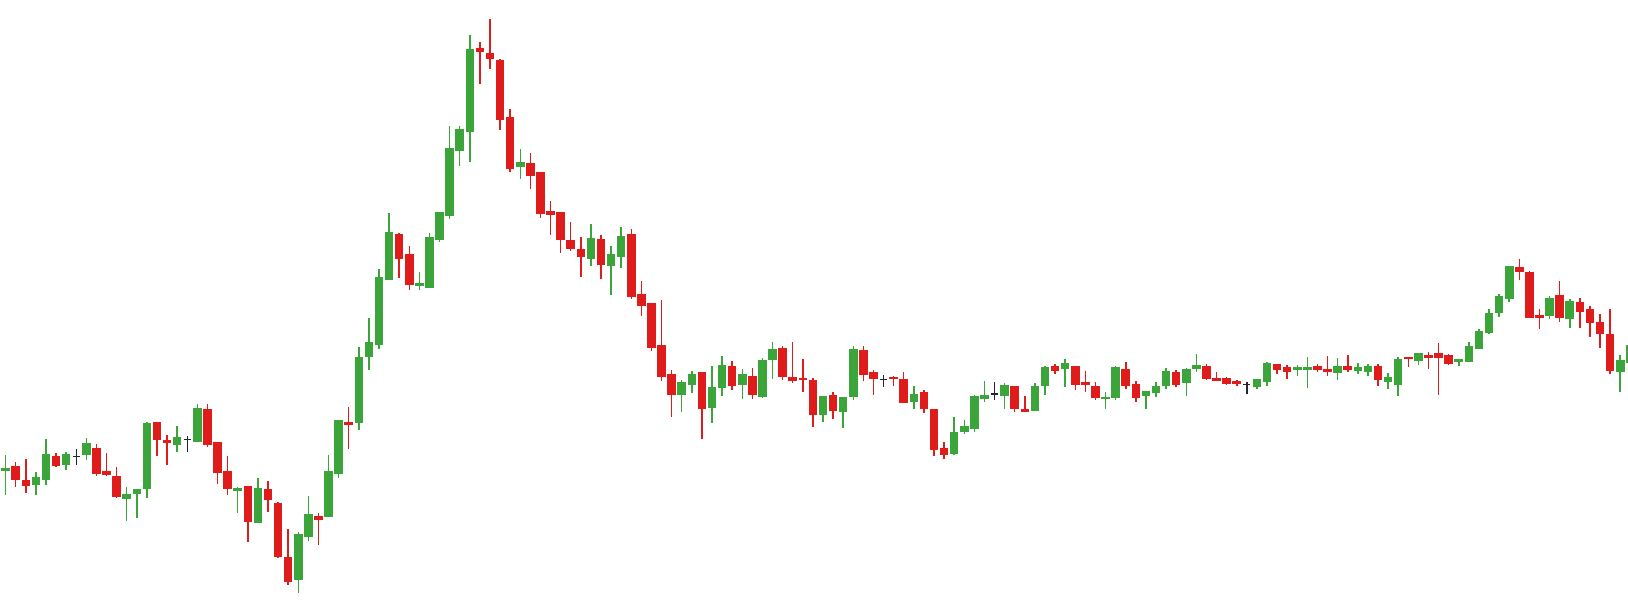buy: (22, 457, 141, 526)
